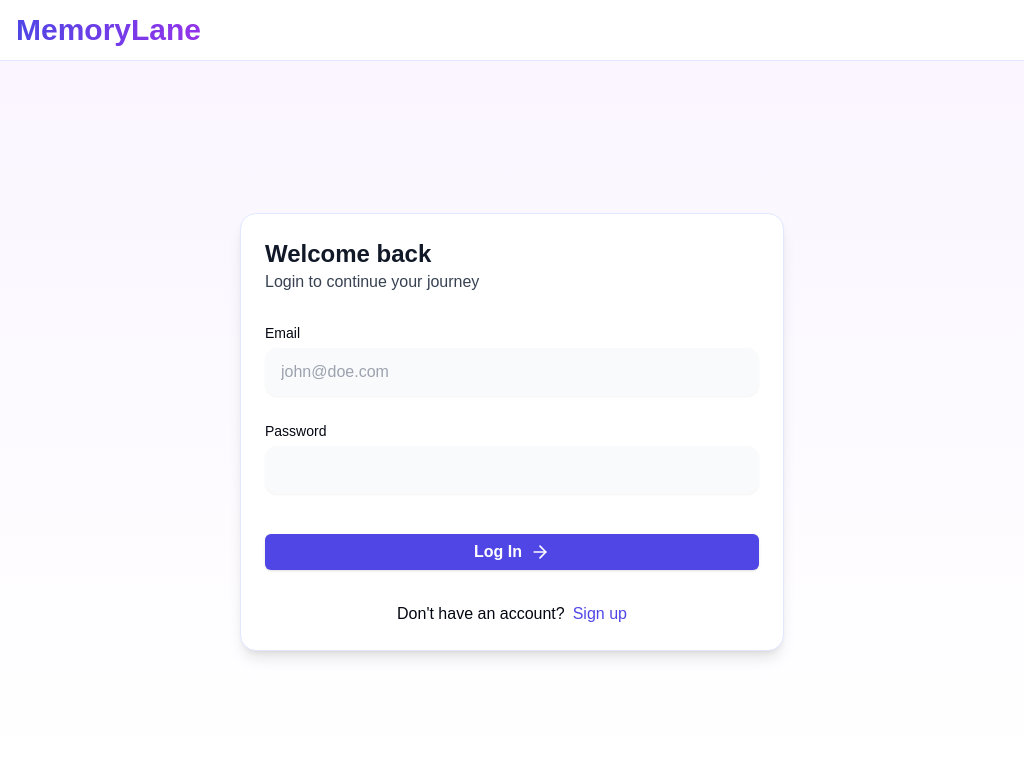
Test: Login Page › should show error messages for empty fields
Click the submit button at (512, 552), box [265,534,759,570]
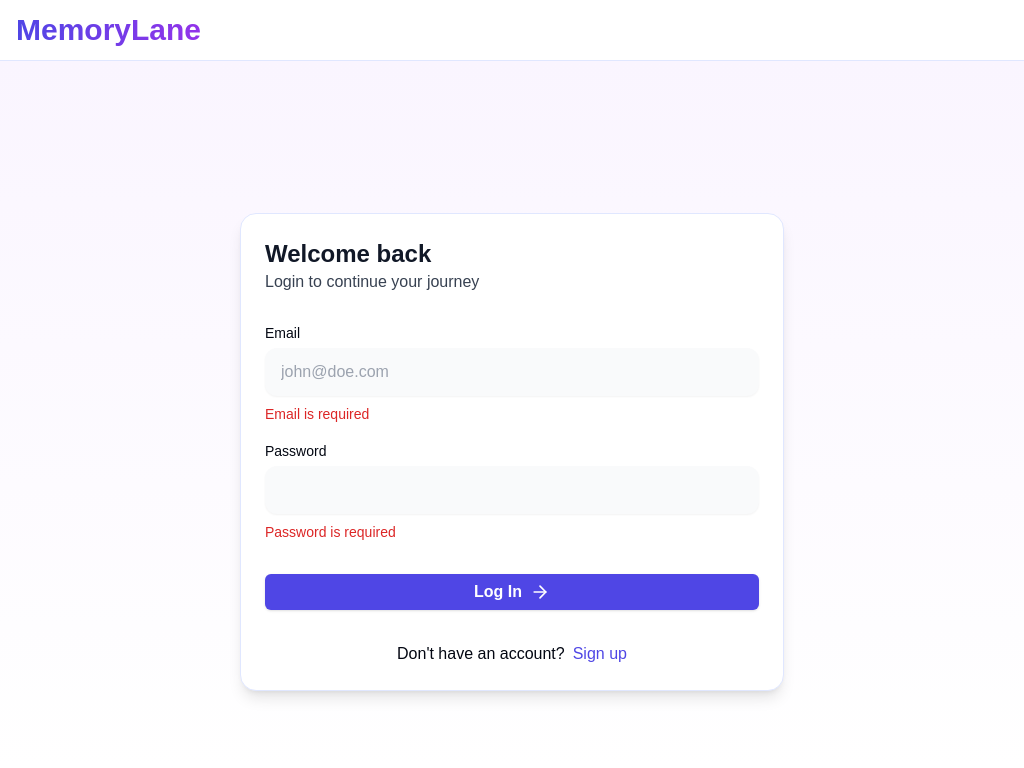
Result: the text "Email is required" is shown at [265,406,369,422]
Result: the text "Password is required" is shown at [265,524,396,540]
